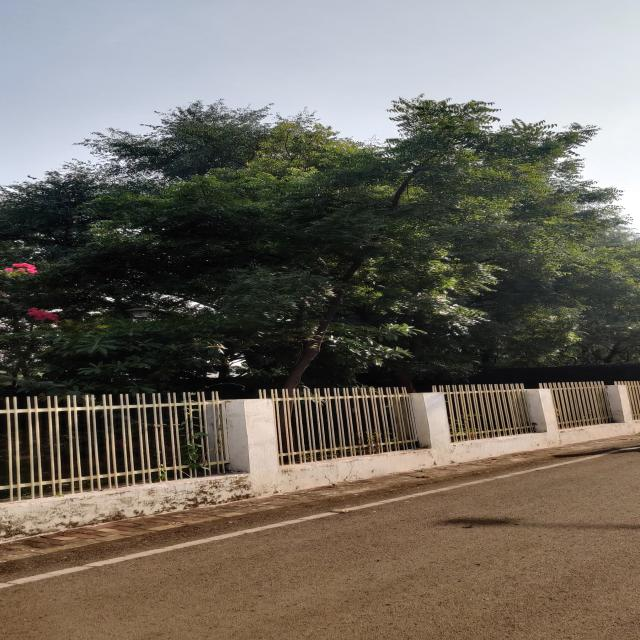Neem Tree: (218, 140, 640, 303)
